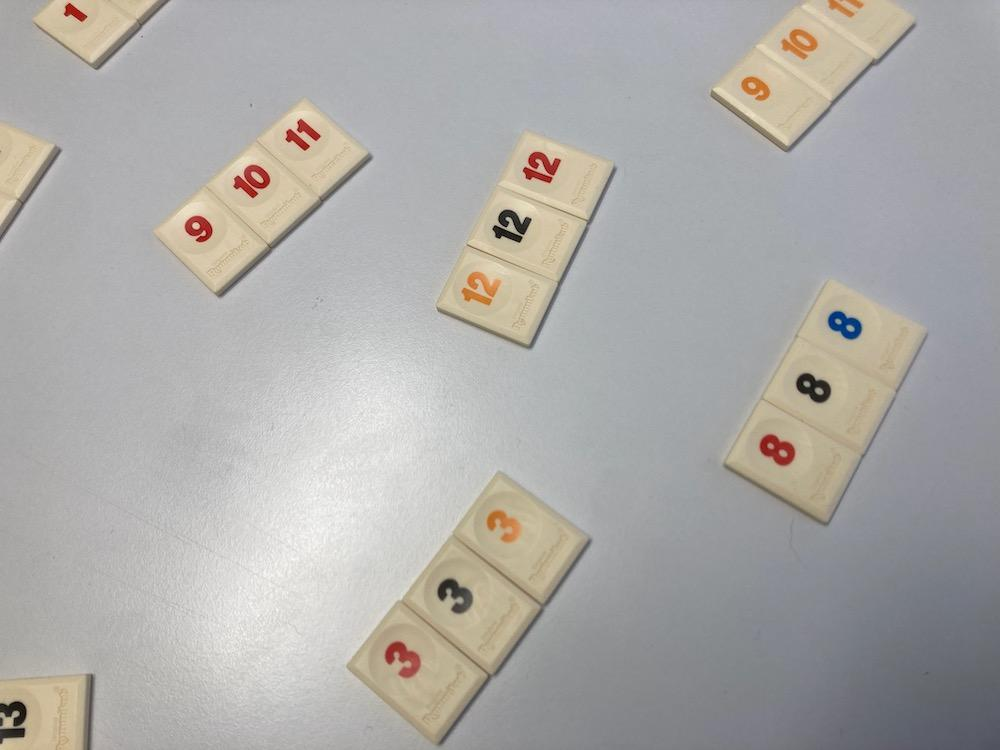black_12: (467, 188, 586, 281)
black_13: (1, 676, 91, 750)
black_3: (404, 537, 539, 674)
black_8: (765, 338, 895, 453)
blue_8: (797, 279, 926, 389)
orange_10: (757, 8, 871, 100)
orange_11: (804, 0, 914, 61)
orange_12: (436, 246, 557, 346)
orange_3: (453, 473, 588, 602)
orange_9: (711, 49, 830, 148)
red_1: (33, 0, 139, 68)
red_10: (207, 143, 320, 244)
red_11: (258, 98, 369, 197)
red_12: (498, 131, 613, 221)
red_3: (348, 602, 486, 742)
red_8: (725, 400, 861, 523)
red_9: (154, 188, 270, 293)
